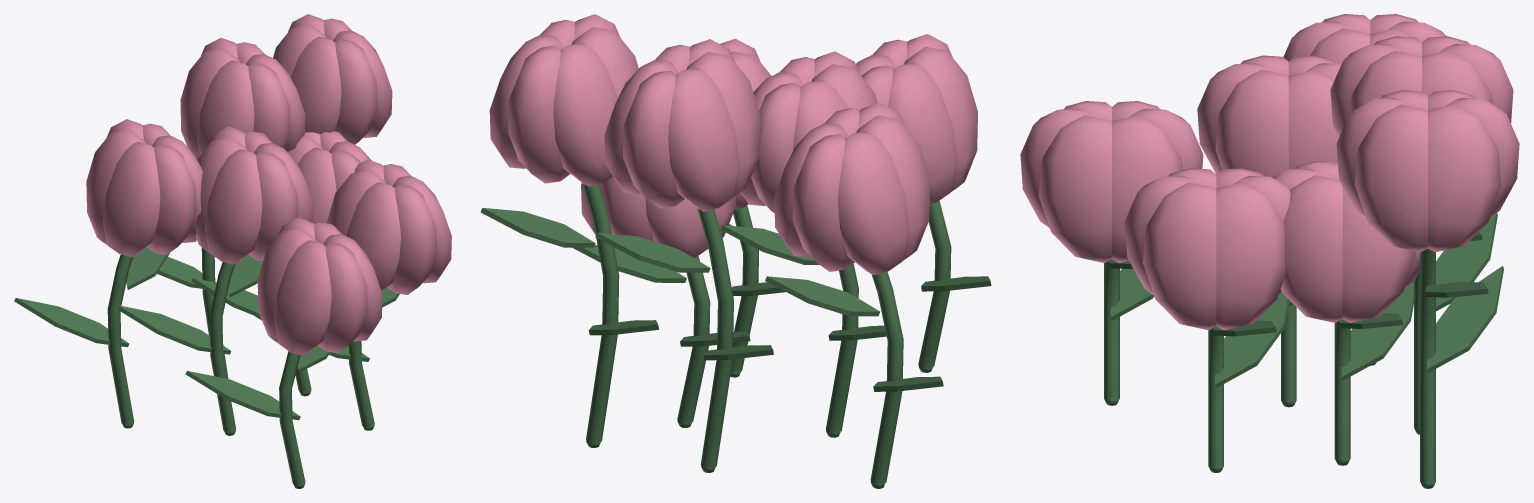
File: almanac-gardens-tulip-border-4350e6c5__22034.glb
The picture shows the model from 3 angles, left to right: view 1: azimuth 30°, elevation 25°; view 2: azimuth 150°, elevation 25°; view 3: azimuth 270°, elevation 25°; orthographic projection. The views are drawn at different scales.
Parts seen in each view (by area): view 1: tulip-border-pink, tulip-border-leaf; view 2: tulip-border-pink, tulip-border-leaf; view 3: tulip-border-pink, tulip-border-leaf.
Boxes of the visible parts, x1,y1,x2,y2 form: tulip-border-pink: (86, 14, 451, 355); tulip-border-leaf: (14, 247, 399, 488); tulip-border-pink: (489, 14, 977, 275); tulip-border-leaf: (480, 183, 991, 488); tulip-border-pink: (1020, 14, 1519, 330); tulip-border-leaf: (1104, 213, 1503, 488).
Bounding box in the file's own units: 0.7663 × 0.6691 × 0.7523.
